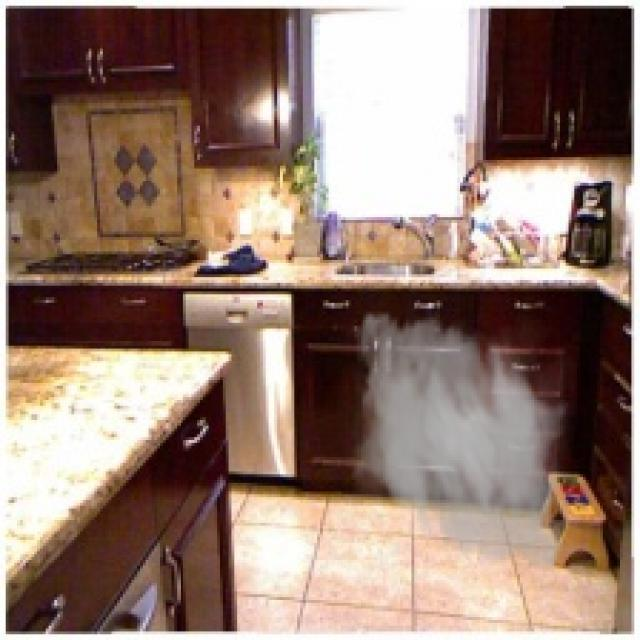Smoke: (334, 300, 580, 580)
